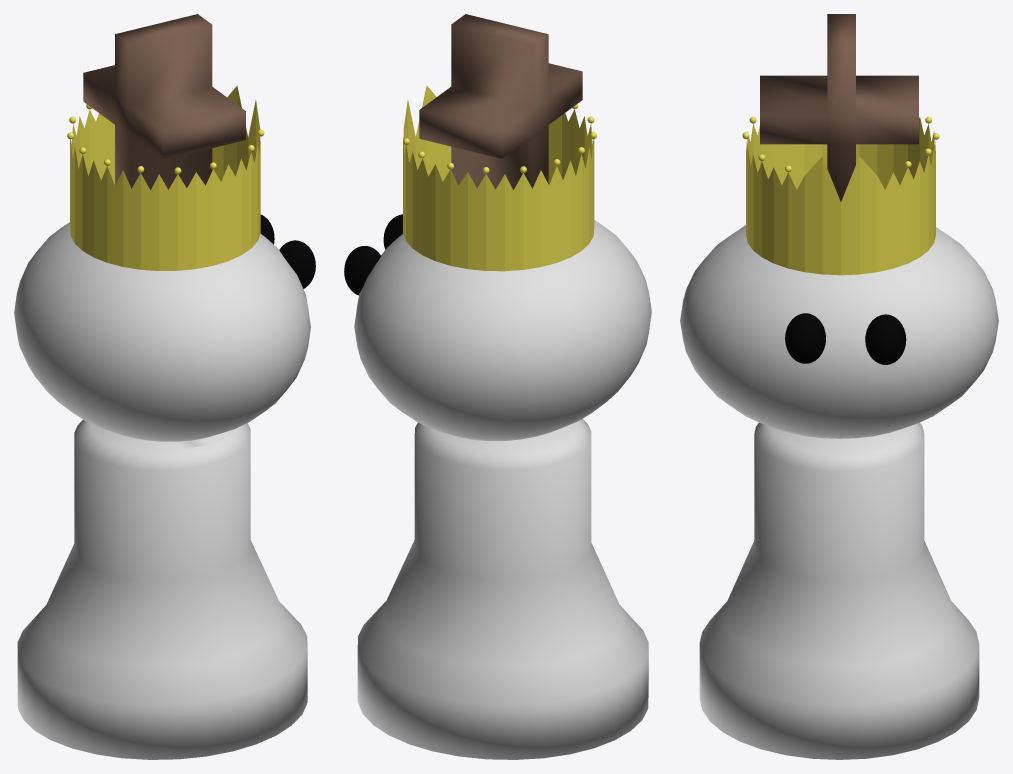
File: WhiteKing.fbx
The picture shows the model from 3 angles, left to right: view 1: azimuth 30°, elevation 25°; view 2: azimuth 150°, elevation 25°; view 3: azimuth 270°, elevation 25°; orthographic projection.
Visible parts, largest first — view 1: WhiteKing; view 2: WhiteKing; view 3: WhiteKing.
Part boxes in pixels (box(x1,y1,x2,y2)): WhiteKing: box(14, 14, 315, 759); WhiteKing: box(344, 14, 651, 759); WhiteKing: box(680, 14, 998, 759).
Size of the model in its own units: 91.45 by 224 by 97.32.
